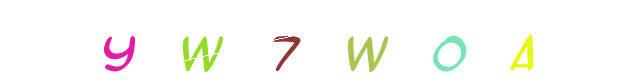7: (247, 0, 327, 80)
A: (485, 0, 565, 80)
O: (370, 0, 450, 80)
W: (242, 0, 322, 80), (280, 0, 360, 80)
Y: (79, 0, 159, 80)
